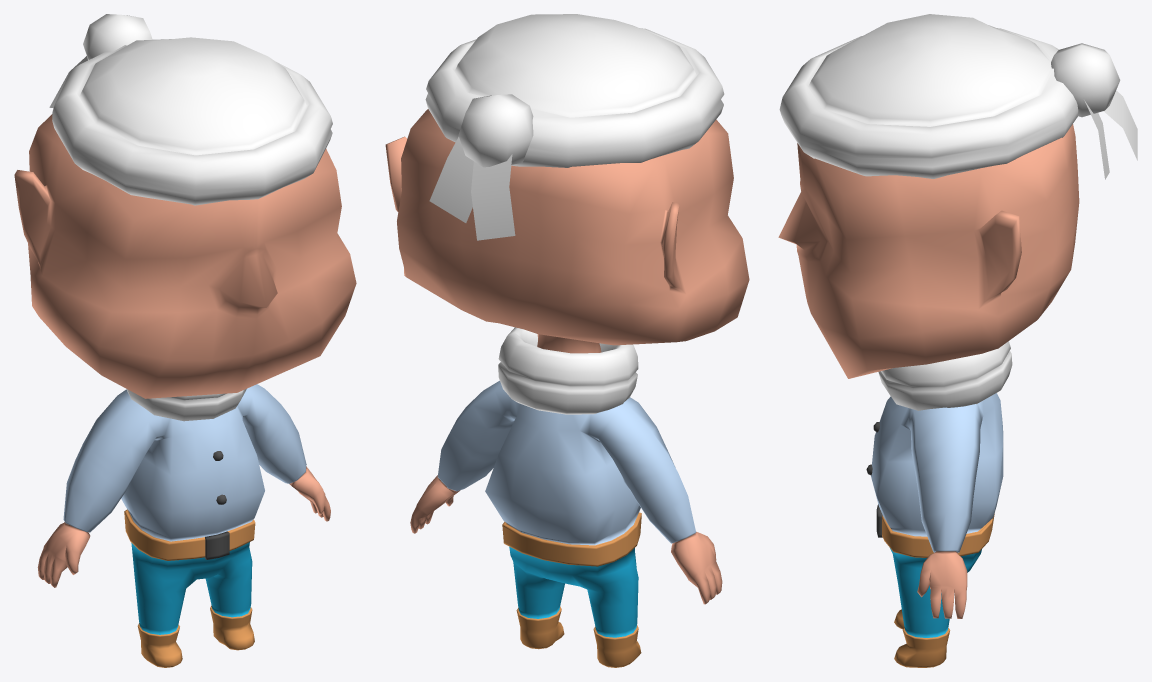
Rendered from Mr.Katsuki_blockout v2.fbx.
The picture shows the model from 3 angles, left to right: view 1: azimuth 30°, elevation 25°; view 2: azimuth 150°, elevation 25°; view 3: azimuth 270°, elevation 25°; orthographic projection. The views are drawn at different scales.
Visible parts, largest first — view 1: Mr.Katsuki; view 2: Mr.Katsuki; view 3: Mr.Katsuki.
Part boxes in pixels (box(x1,y1,x2,y2)): Mr.Katsuki: box(14, 14, 356, 667); Mr.Katsuki: box(385, 14, 749, 667); Mr.Katsuki: box(778, 14, 1137, 667).
Size of the model in its own units: 316 by 634 by 340.
